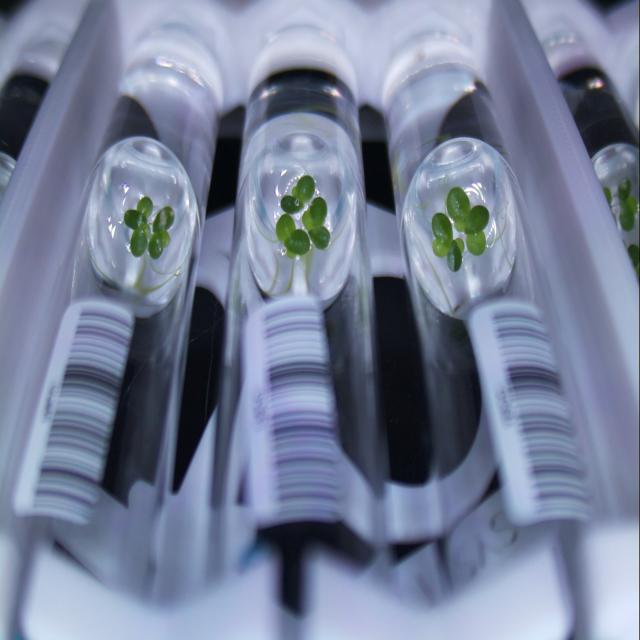Lemna-Gibba: (446, 187, 471, 222), (302, 197, 328, 230), (431, 212, 452, 247), (465, 205, 490, 233), (291, 175, 315, 203), (124, 208, 149, 233), (285, 230, 310, 255), (275, 213, 296, 242), (152, 207, 175, 232), (130, 227, 149, 257), (309, 225, 330, 250), (466, 230, 486, 255), (448, 240, 462, 272), (280, 195, 304, 213), (149, 233, 164, 259), (432, 238, 449, 257), (152, 230, 170, 247), (138, 197, 152, 218), (452, 238, 464, 252), (454, 220, 466, 232)
